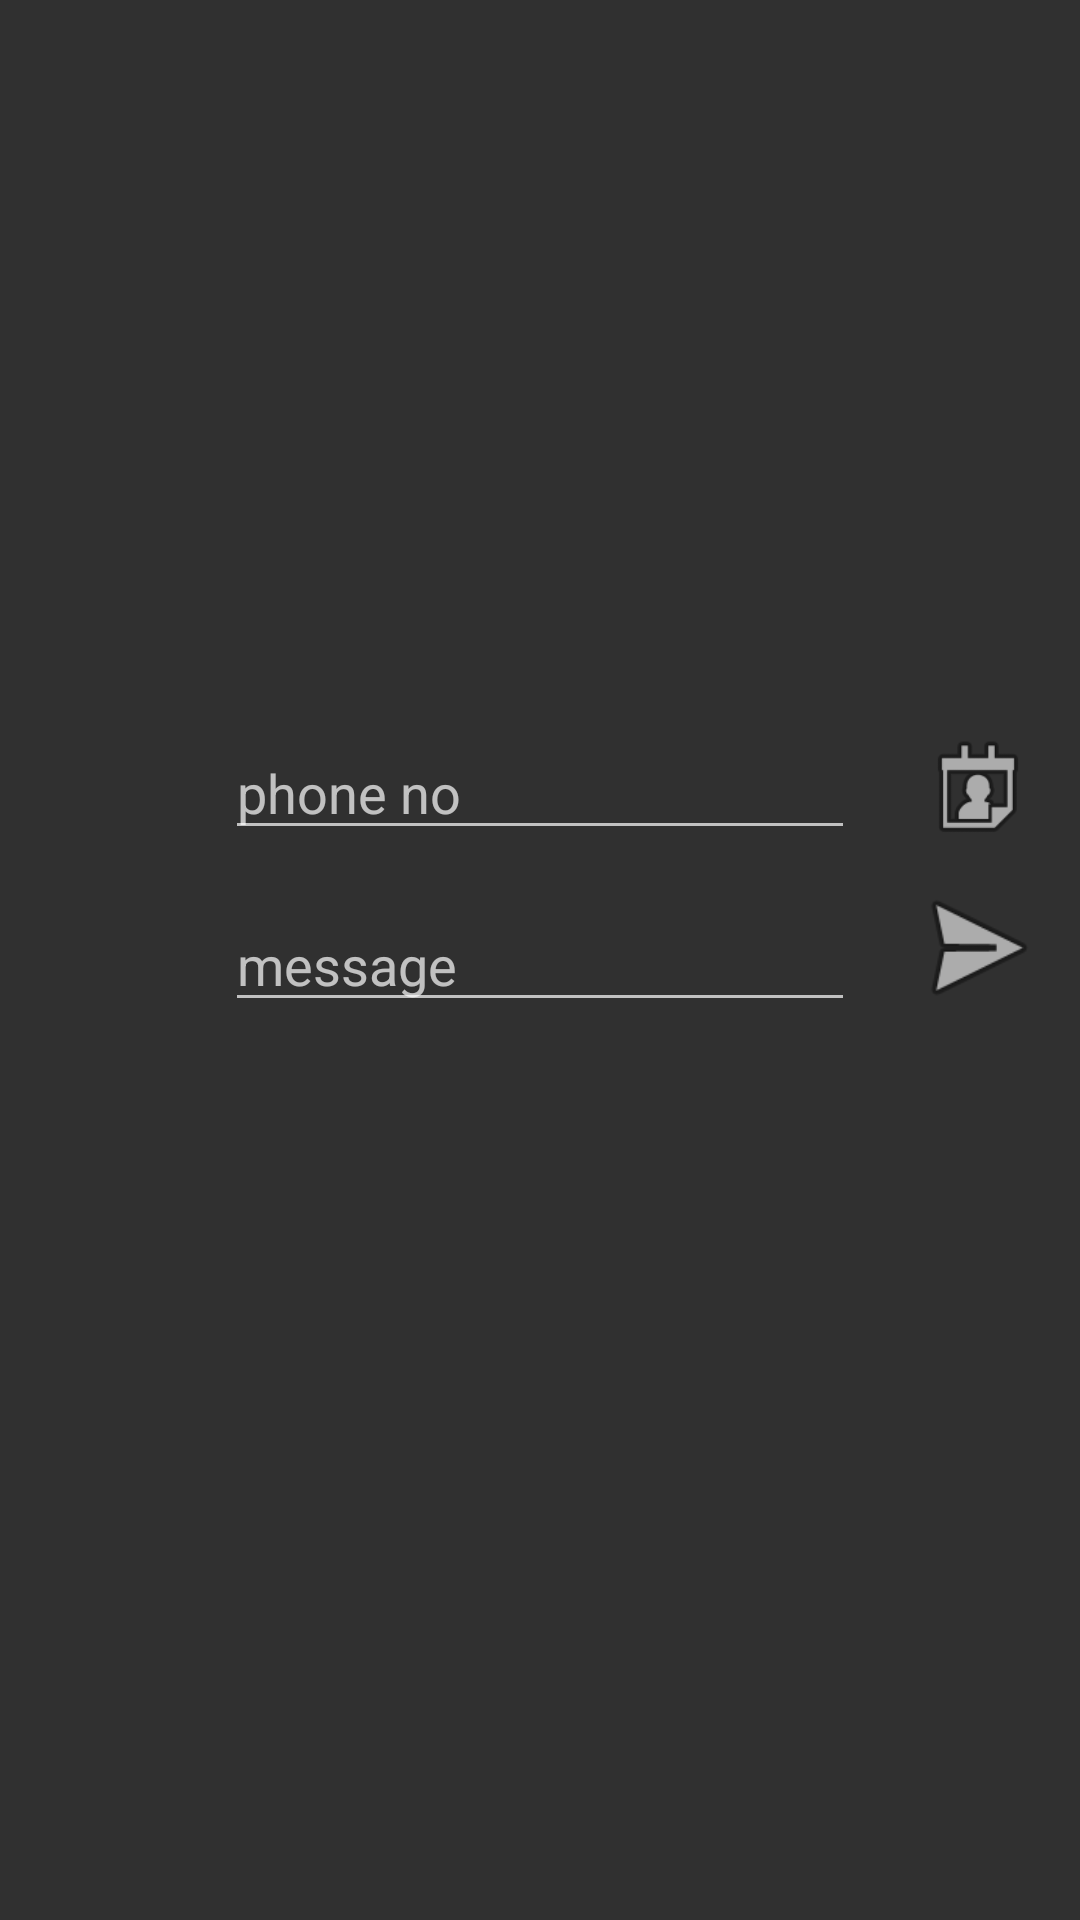

Icon bounding boxes for this 1080 x 1920 phone screenshot, format bbox=[x1, y1, x2, y2]:
calendar: bbox=[942, 744, 1014, 828]
send: bbox=[936, 905, 1022, 990]
